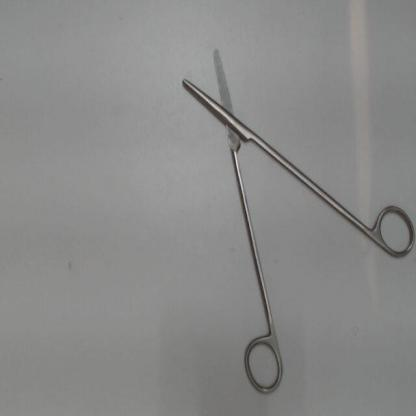9 Metzenbaum Scissors: (178, 36, 414, 404)
